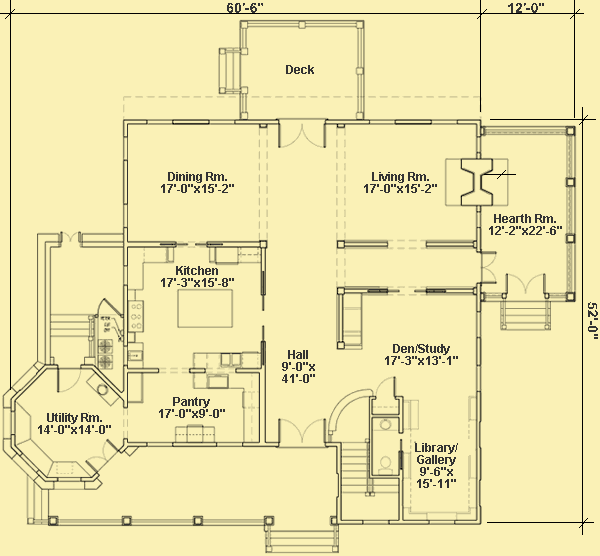door: (276, 116, 330, 152), (276, 415, 329, 448), (85, 437, 121, 474), (505, 271, 548, 298), (54, 364, 83, 393), (94, 297, 125, 321), (477, 250, 499, 283), (58, 229, 84, 248)
large_sink: (374, 453, 397, 474)
small_sink: (87, 372, 120, 408), (371, 415, 400, 432)
stairs: (339, 439, 375, 523), (43, 310, 95, 366), (498, 302, 552, 333), (218, 45, 244, 94)
